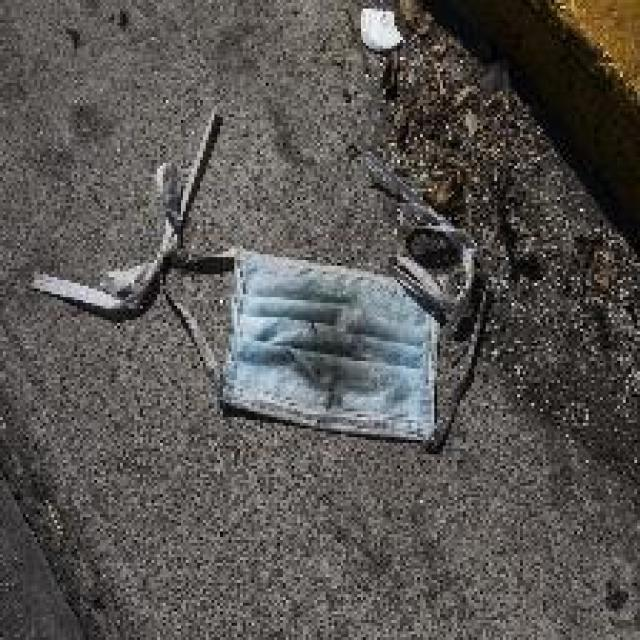Mask: (151, 204, 496, 481)
